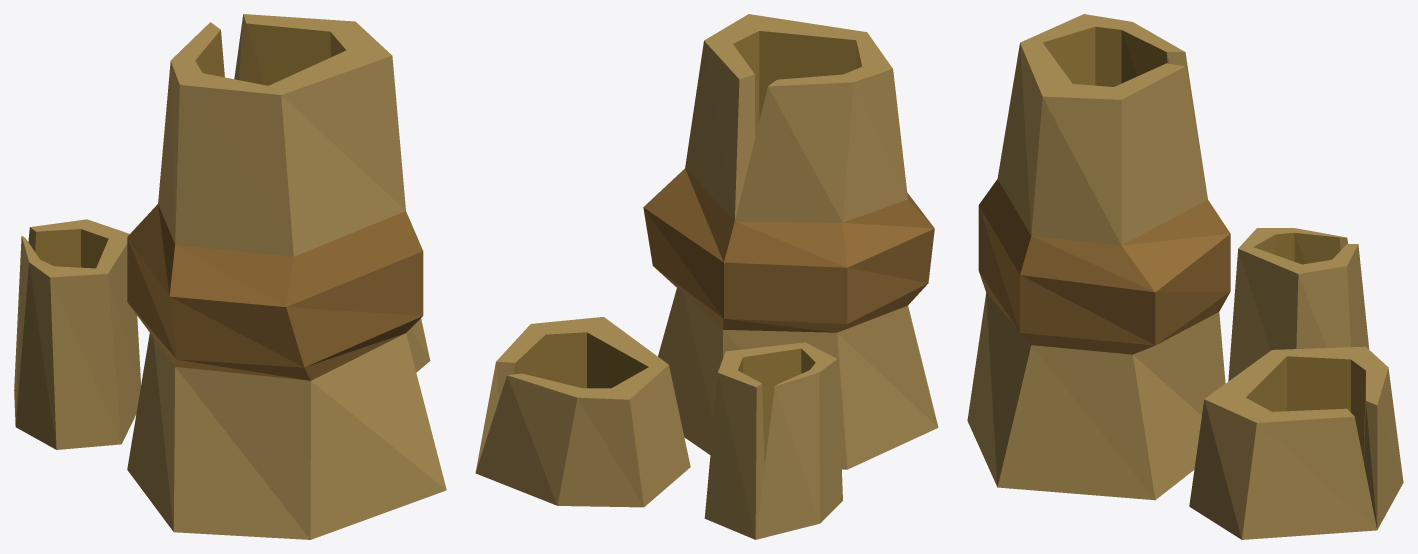
Rendered from obj_pots_0.obj.
3 renders of one model, left to right at view 1: azimuth 30°, elevation 25°; view 2: azimuth 150°, elevation 25°; view 3: azimuth 270°, elevation 25°, orthographic. The views are drawn at different scales.
Bounding box in the file's own units: 0.8125 × 0.8672 × 0.9062.
